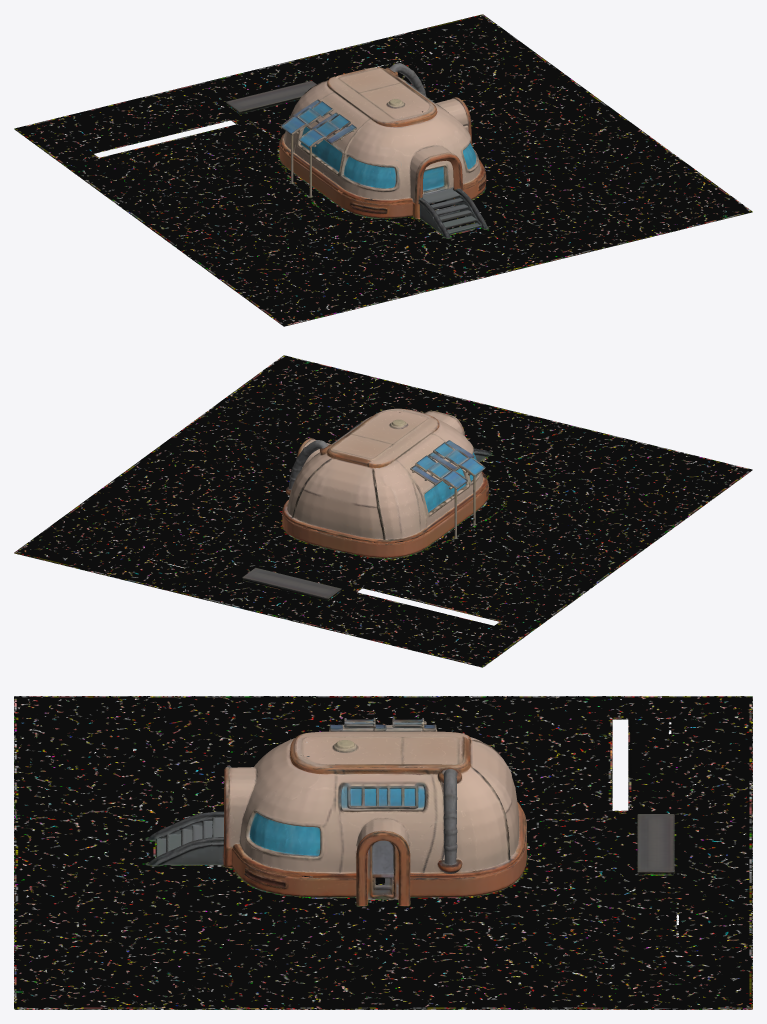
File: zhiloy-barak.glb
3 views of the same model, one above another, from view 1: azimuth 30°, elevation 25°; view 2: azimuth 150°, elevation 25°; view 3: azimuth 270°, elevation 25° (orthographic). The views are drawn at different scales.
Parts seen in each view (by area): view 1: geometry_0; view 2: geometry_0; view 3: geometry_0.
Part boxes in pixels (left/top/right/bottom): geometry_0: left=14, top=14, right=752, bottom=326; geometry_0: left=14, top=355, right=752, bottom=667; geometry_0: left=14, top=696, right=752, bottom=1009.
Size of the model in its own units: 0.9925 by 0.1679 by 0.9895.
Materials: 1 (1 with a texture image).
